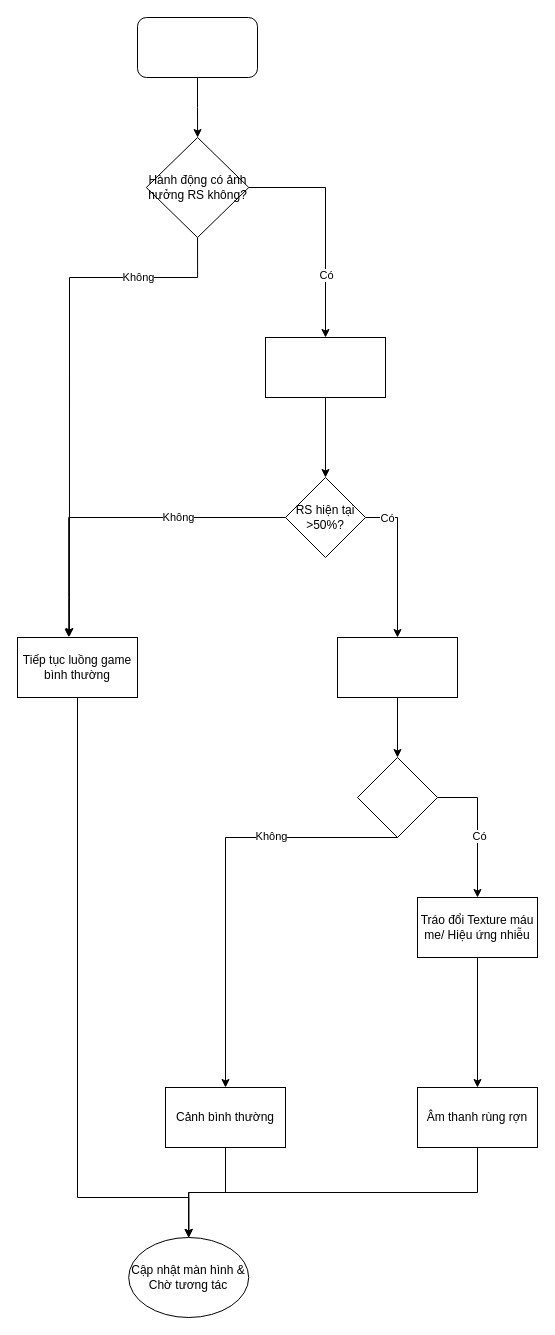
The diagram is 555 pixels wide and 1335 high, and some of its shapes have lost their labels. The shapes that lost their labels are listed below. From the top down, each one's box as (x1, y1, x2, y2) in pixels, then its label:
(136, 16, 258, 78): Chọn hội thoại/ Tương tác vật phẩm
(264, 336, 386, 398): Gửi yêu cầu RSManger addRS
(336, 636, 458, 698): RSMonitorSystem quét các vật thể
(356, 756, 438, 838): Đối tượng có gắn GlitchComponent?
